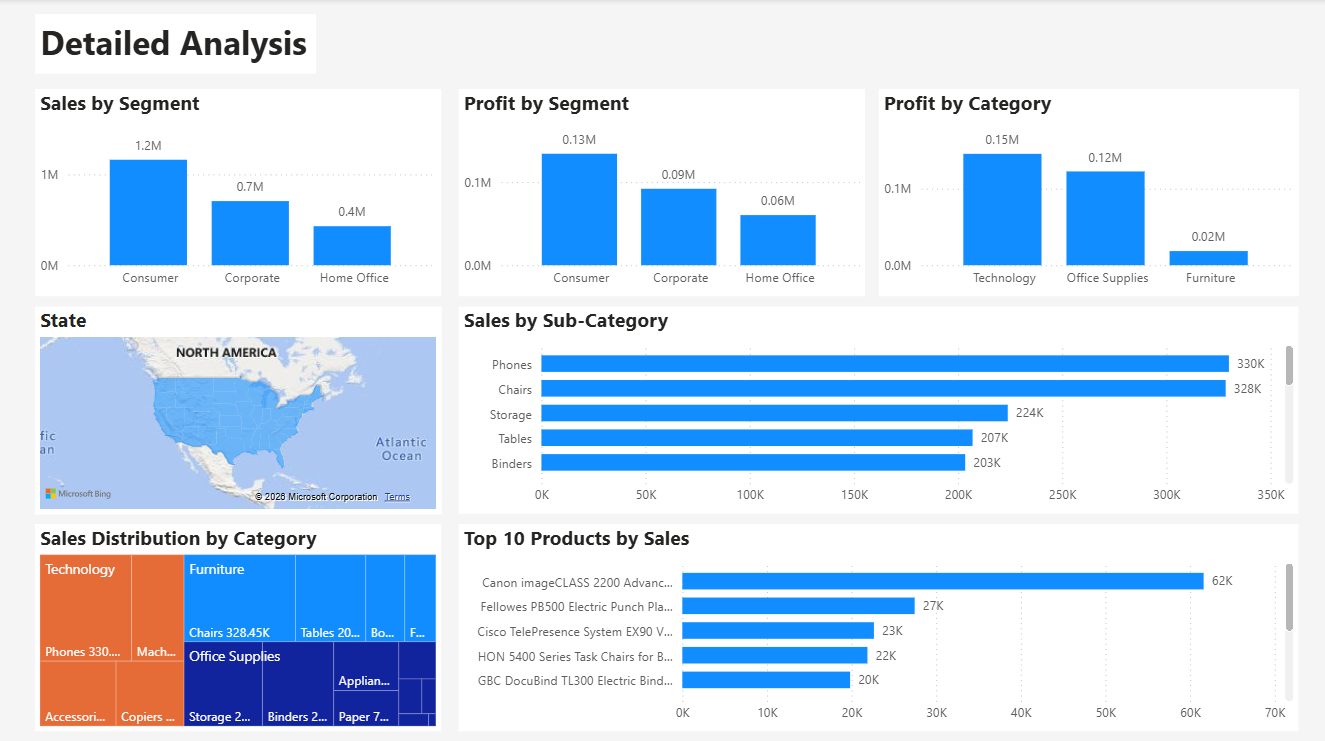

This screenshot's page, from the dashboard's own definition file:
{"tool":"powerbi","page":{"name":"Detailed Analysis","canvas":[1280,720],"ordinal":1},"visuals":[{"type":"clusteredColumnChart","title":"Sales by Segment","fields":{"Category":["Sample - Superstore.Segment"],"Y":["Sum(Sample - Superstore.Sales)"]},"box":[33.8,86.9,392.1,200.3],"z":0},{"type":"clusteredColumnChart","title":"Profit by Segment","fields":{"Category":["Sample - Superstore.Segment"],"Y":["Sum(Sample - Superstore.Profit)"]},"box":[442.8,86.9,392.1,200.3],"z":1000},{"type":"filledMap","fields":{"Category":["Sample - Superstore.State"]},"box":[33.8,296.8,392.1,200.3],"z":2000},{"type":"clusteredBarChart","title":"Sales by Sub-Category","fields":{"Category":["Sample - Superstore.Sub-Category"],"Y":["Sum(Sample - Superstore.Sales)"]},"box":[442.8,296.8,810.7,200.3],"z":3000},{"type":"clusteredColumnChart","title":"Profit by Category","fields":{"Category":["Sample - Superstore.Category"],"Y":["Sum(Sample - Superstore.Profit)"]},"box":[848.1,86.9,405.4,200.3],"z":4000},{"type":"clusteredBarChart","title":"Top 10 Products by Sales","fields":{"Category":["Sample - Superstore.Product Name"],"Y":["Sum(Sample - Superstore.Sales)"]},"box":[442.8,506.7,810.7,200.3],"z":5000},{"type":"treemap","title":"Sales Distribution by Category","fields":{"Group":["Sample - Superstore.Category"],"Details":["Sample - Superstore.Sub-Category"],"Values":["Sum(Sample - Superstore.Sales)"]},"box":[33.8,506.7,392.1,200.3],"z":6000},{"type":"textbox","box":[33.8,14.5,271.4,57.9],"z":6001}]}

Visuals, with their boxes in screenshot pixels (x1, y1, x2, y2), scaled from the page's 1280x720 canvas onto the 1325x741 screenshot:
"Sales by Segment" clusteredColumnChart: <box>35,89,441,296</box>
"Profit by Segment" clusteredColumnChart: <box>458,89,864,296</box>
filledMap - Sample - Superstore.State: <box>35,305,441,512</box>
"Sales by Sub-Category" clusteredBarChart: <box>458,305,1298,512</box>
"Profit by Category" clusteredColumnChart: <box>878,89,1298,296</box>
"Top 10 Products by Sales" clusteredBarChart: <box>458,521,1298,728</box>
"Sales Distribution by Category" treemap: <box>35,521,441,728</box>
textbox: <box>35,15,316,75</box>
